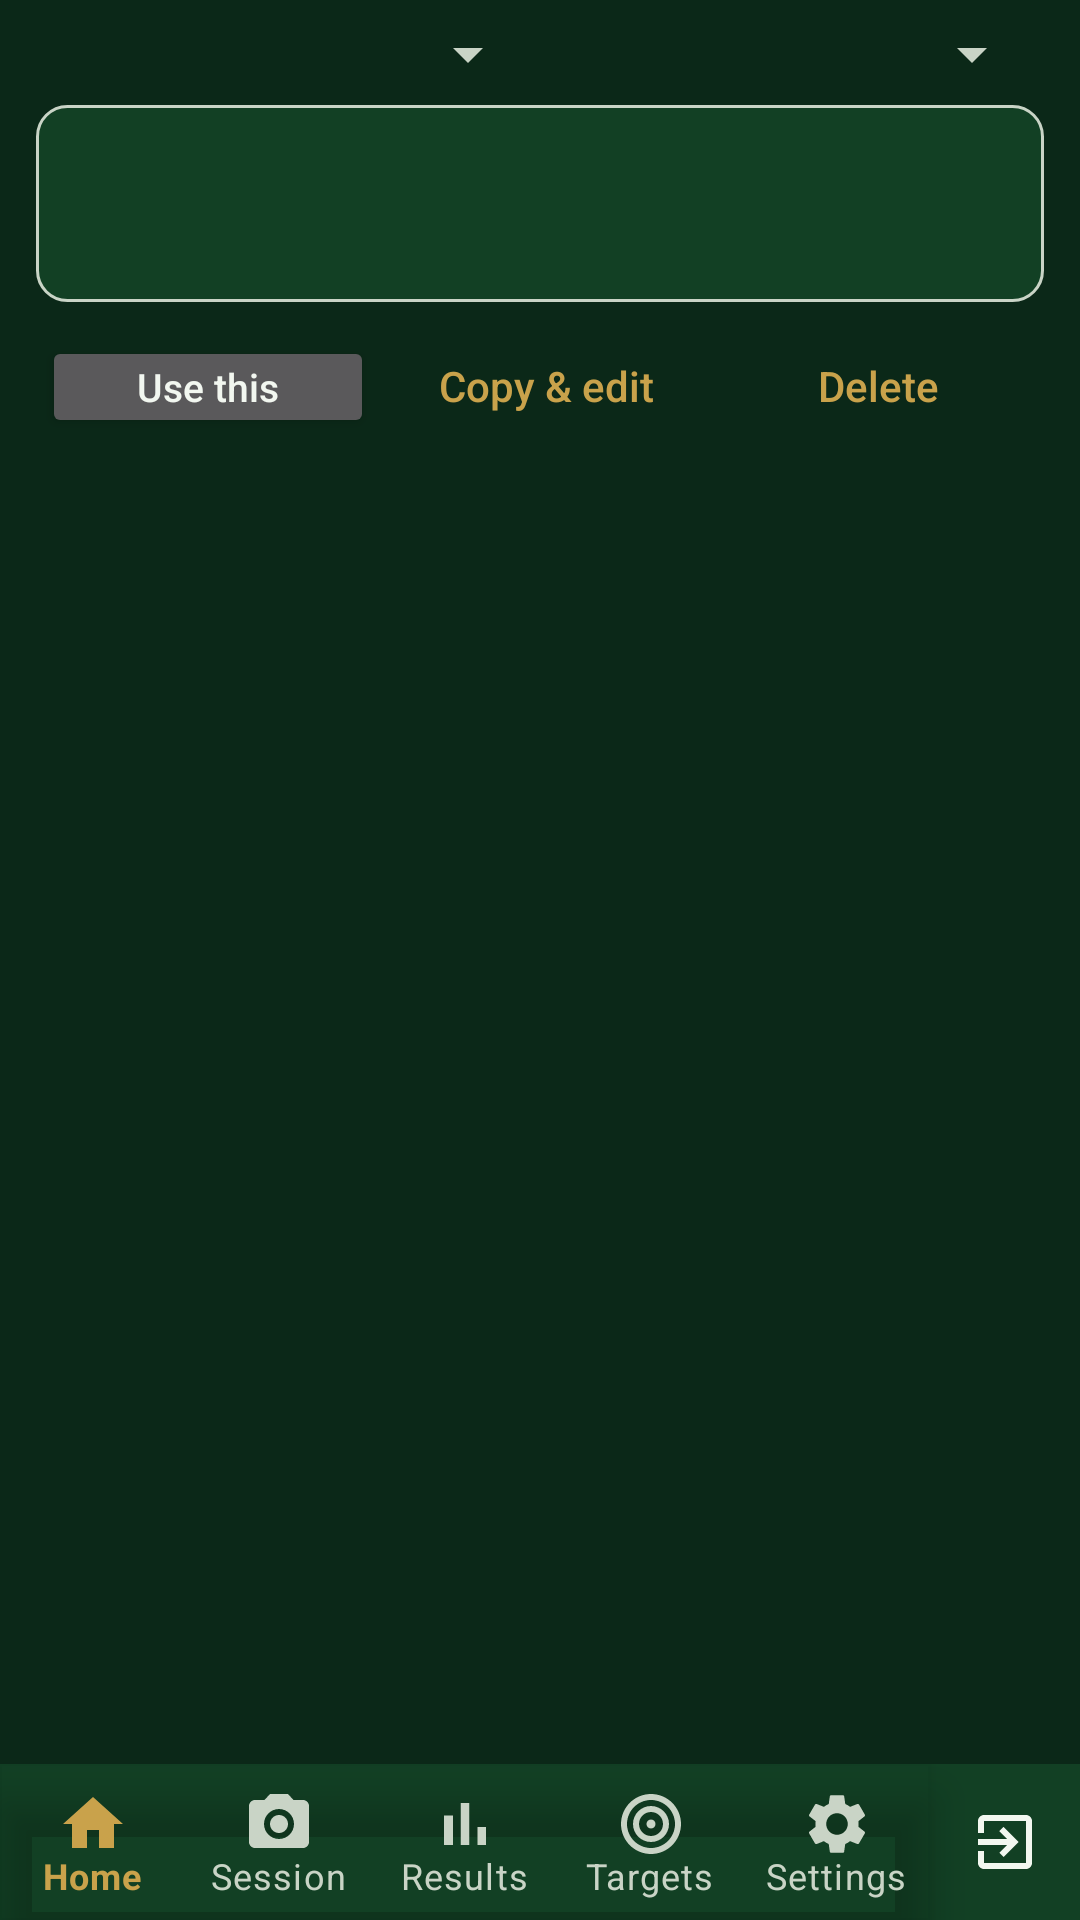

Icons on this 1080 x 1920 Android screen, each with its box as box(x1, y1, x2, y2):
exit: box(978, 1815, 1032, 1869)
